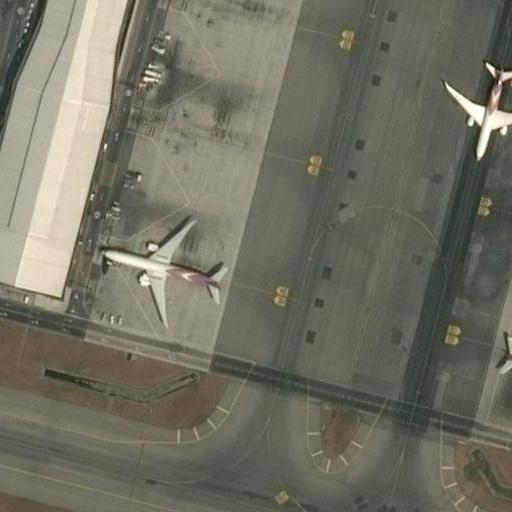Aircraft: (100, 203, 226, 326), (439, 48, 512, 157), (496, 302, 512, 419)
